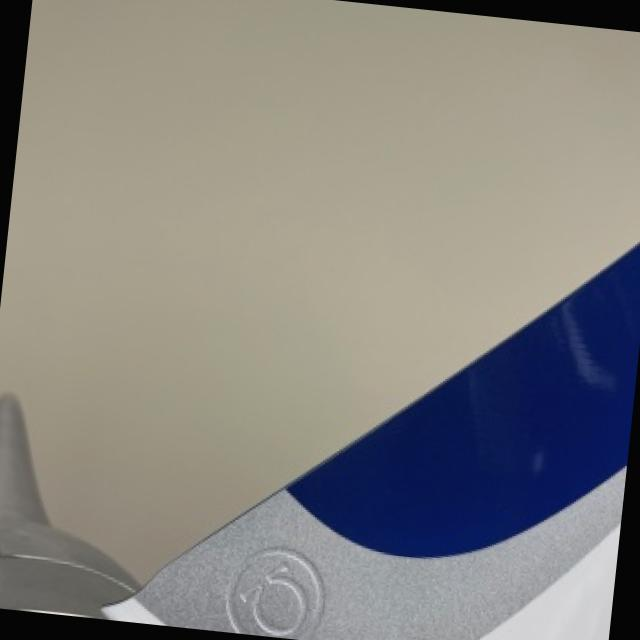healthy: (0, 0, 640, 578), (103, 242, 640, 640)
